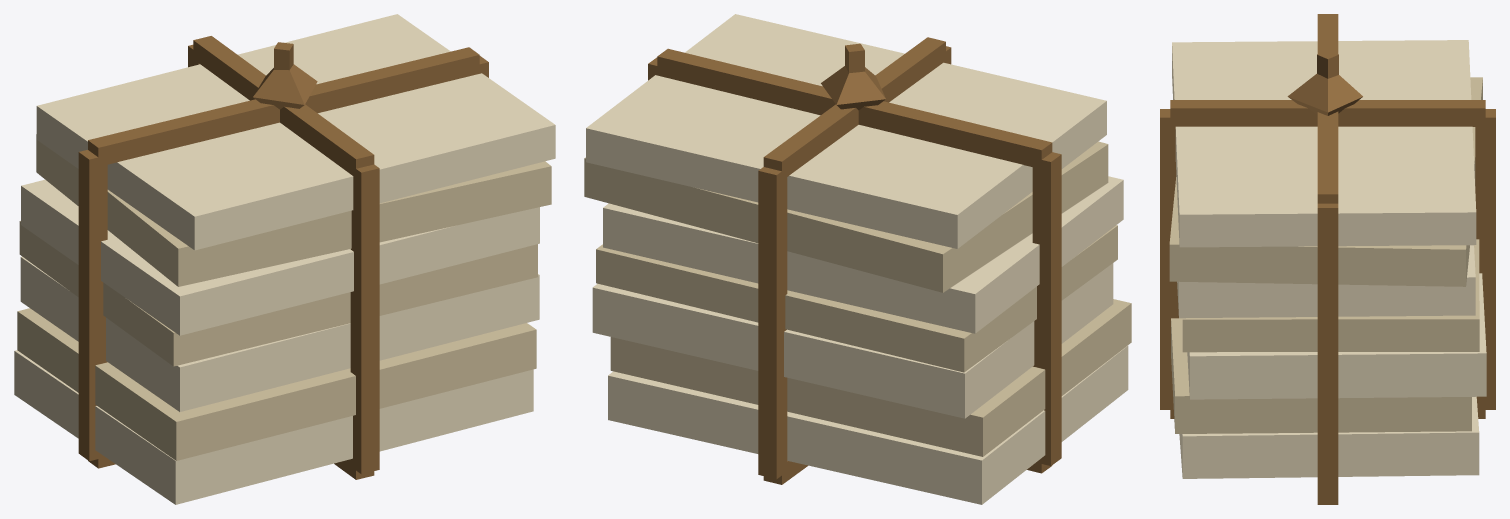
The model's file is stack.glb.
3 renders of one model, left to right at view 1: azimuth 30°, elevation 25°; view 2: azimuth 150°, elevation 25°; view 3: azimuth 270°, elevation 25°, orthographic. The views are drawn at different scales.
Parts seen in each view (by area): view 1: stack2; view 2: stack2; view 3: stack2.
Boxes of the visible parts, <box> form: stack2: <box>14,14,555,504</box>; stack2: <box>584,14,1131,504</box>; stack2: <box>1160,14,1495,504</box>.
Size of the model in its own units: 0.482 by 0.4286 by 0.362.
